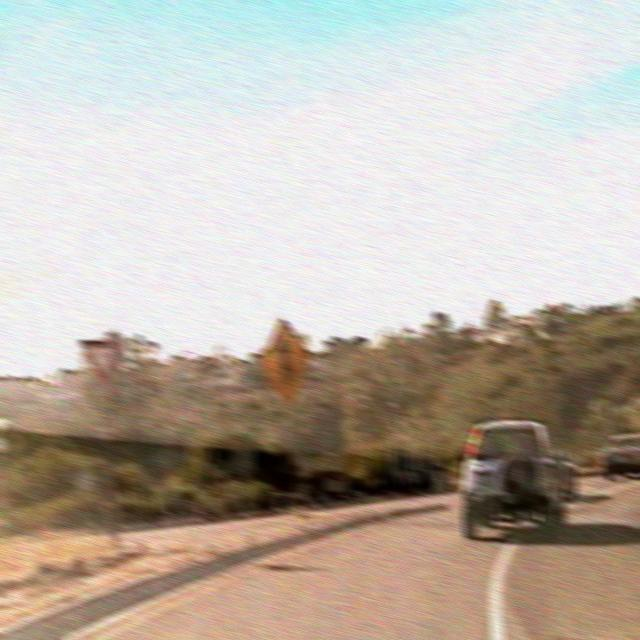yield: (76, 336, 122, 384)
